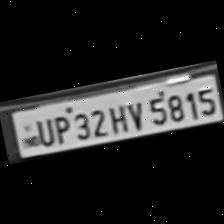1: (181, 86, 198, 120)
2: (85, 104, 108, 138)
3: (68, 107, 92, 141)
5: (141, 90, 169, 127), (190, 83, 218, 118)
8: (162, 88, 188, 124)
H: (103, 100, 129, 134)
P: (46, 110, 72, 145)
U: (32, 114, 54, 147)
V: (122, 96, 146, 130)
